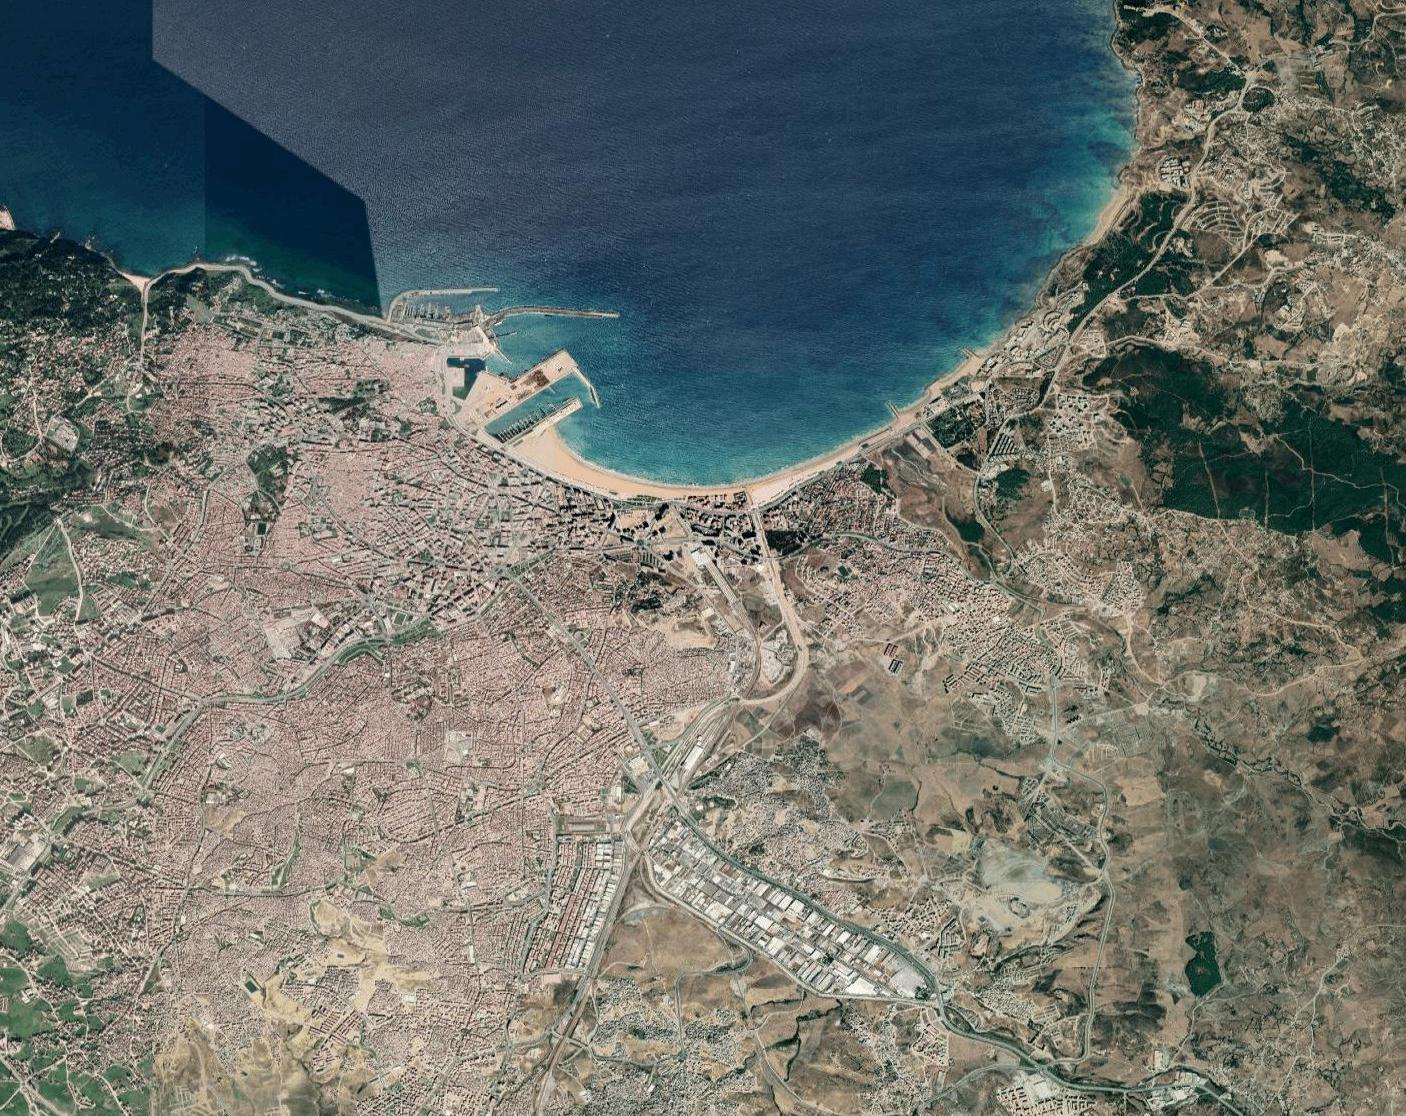harbor: (382, 278, 627, 459)
train_station: (689, 545, 745, 609)
